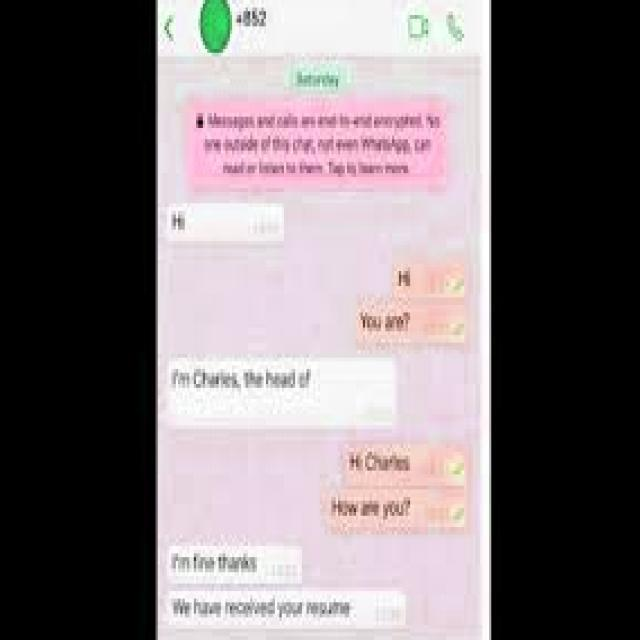scam: (170, 354, 397, 431), (168, 592, 404, 639), (164, 198, 298, 250), (164, 540, 304, 586)
